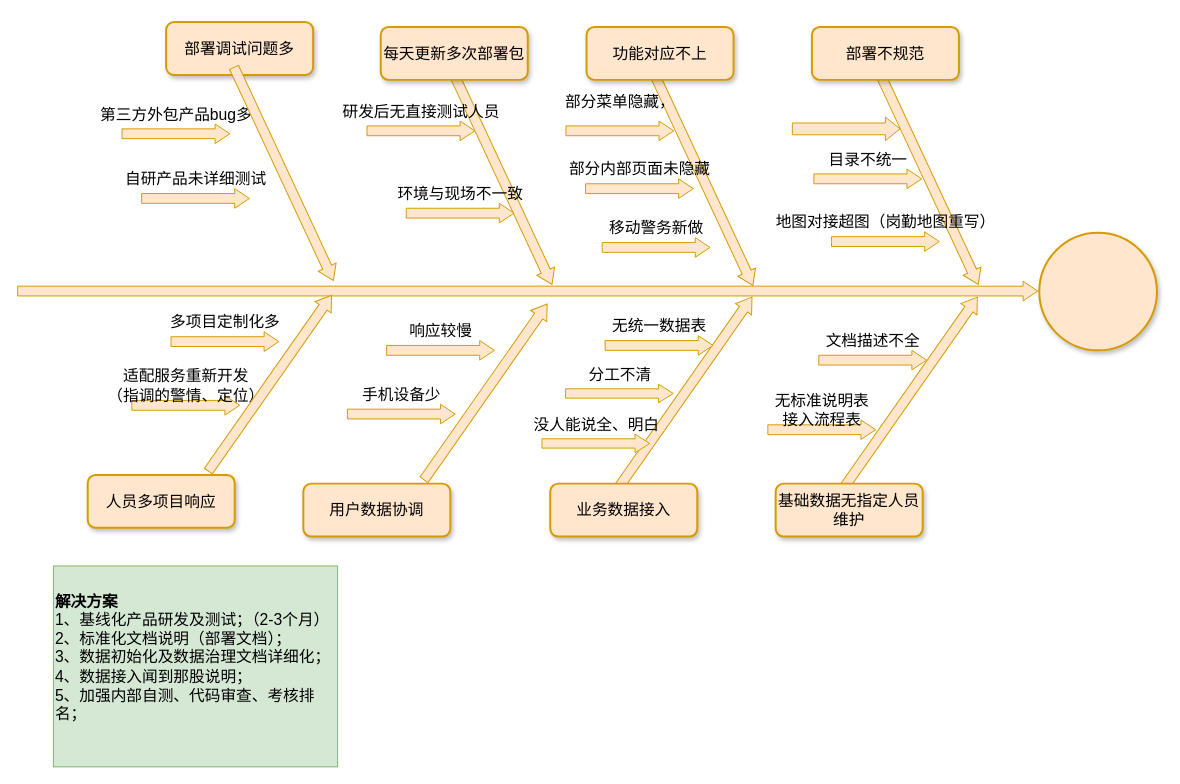
This 1180x784 diagram has some shape labels left out. The shapes that lost their labels are listed below. From the top down, each one's centre as x and y in pixels, then its label:
(x=845, y=128): 部署文档不规范
(x=1098, y=292): 质量问题
